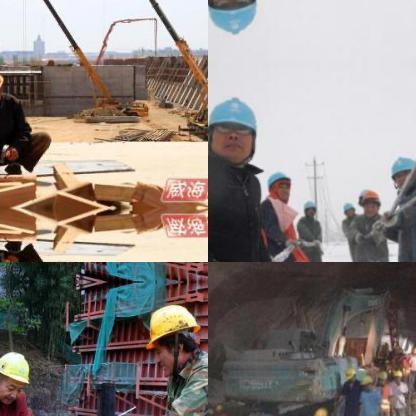Helmet: (141, 296, 205, 372), (208, 91, 261, 166), (208, 0, 263, 39), (0, 345, 30, 404), (263, 166, 291, 202), (387, 154, 415, 186), (358, 186, 380, 214), (301, 197, 317, 216), (358, 374, 374, 392), (340, 200, 354, 216), (374, 368, 386, 386), (311, 404, 328, 415), (344, 366, 354, 380)
